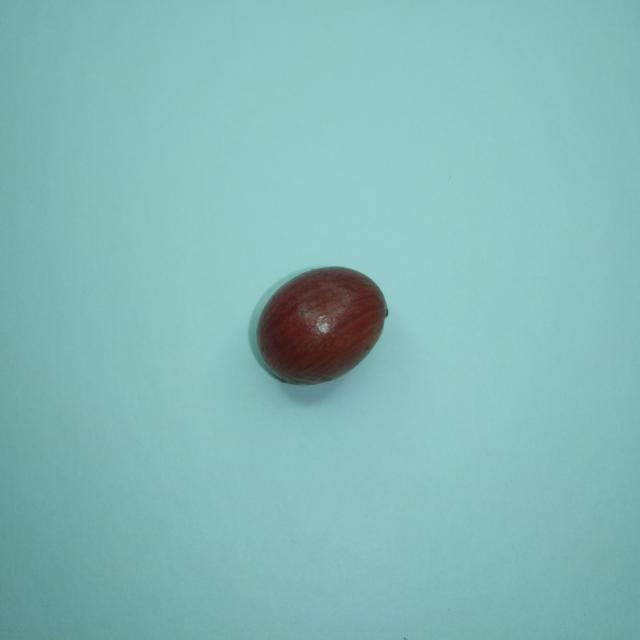Sano: (251, 267, 387, 384)
